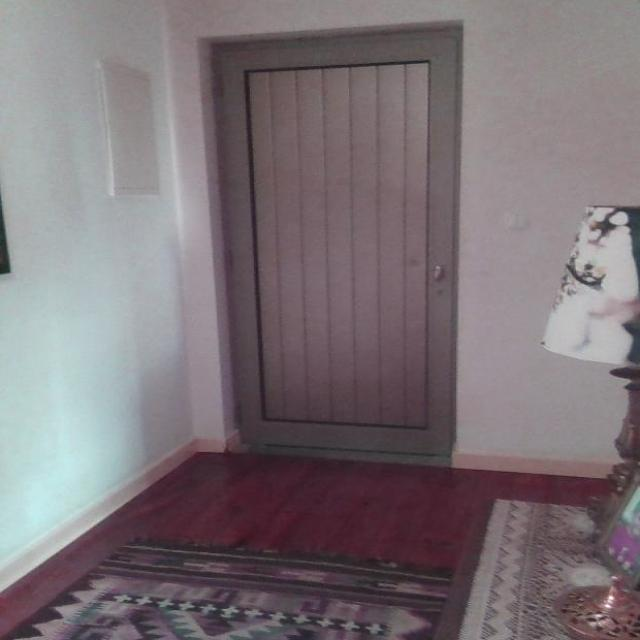door: (211, 25, 461, 464)
